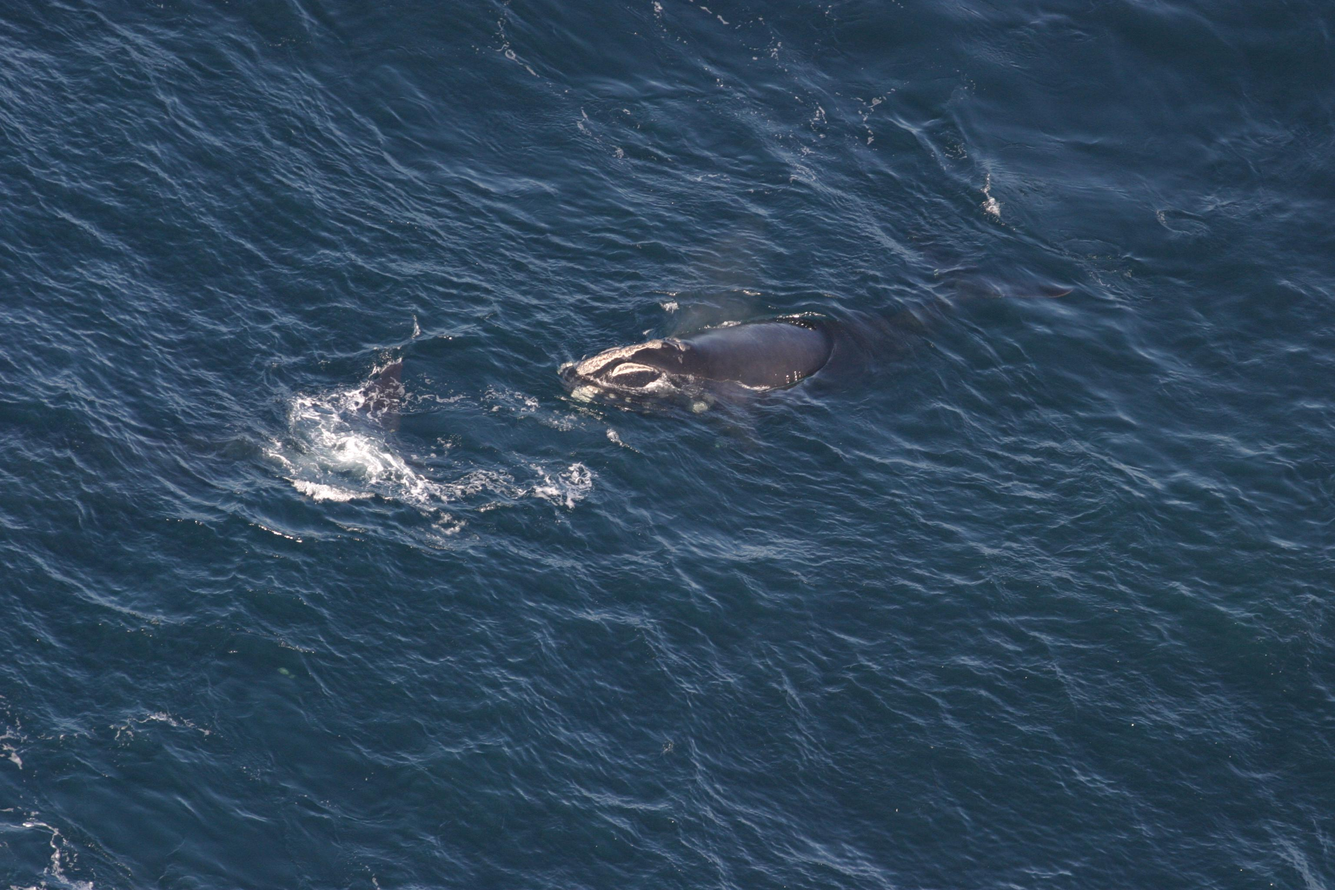whale: (548, 229, 1093, 468)
